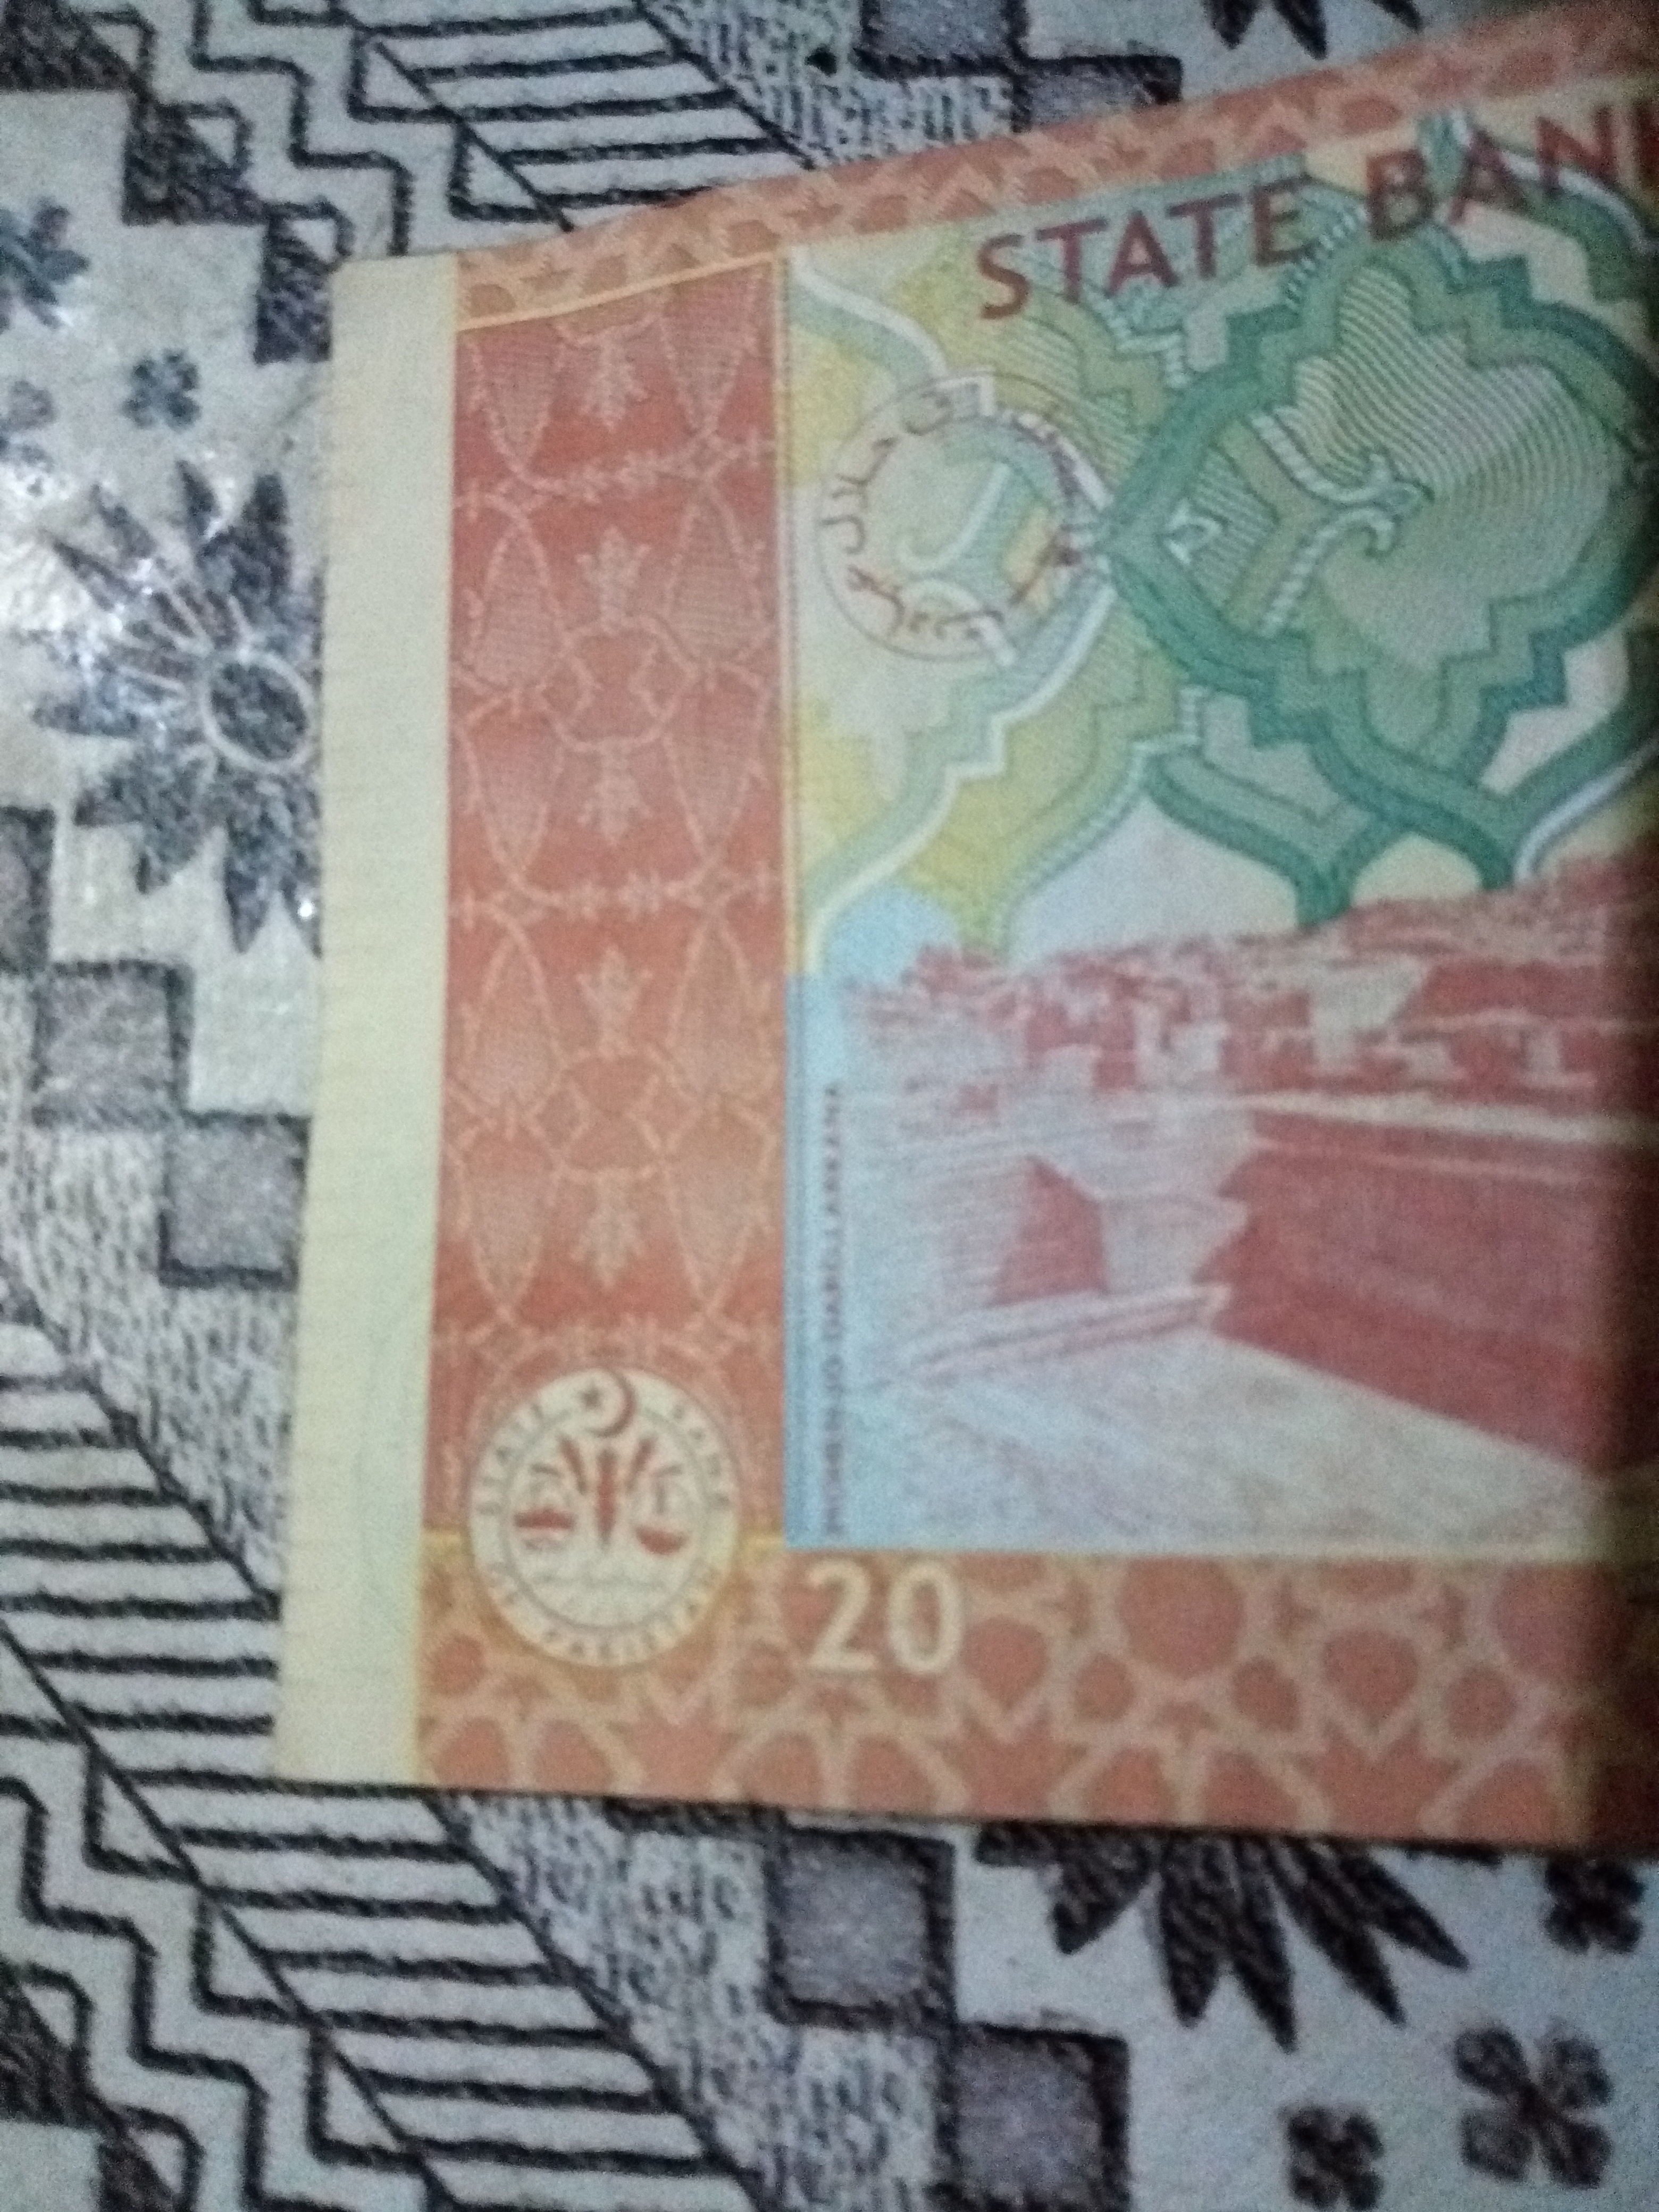20 rupee: (279, 0, 1629, 2013)
